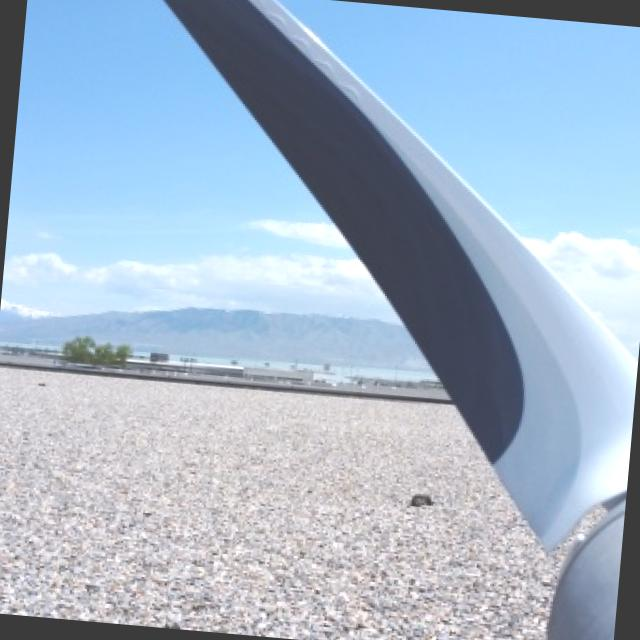healthy: (170, 0, 638, 640)
